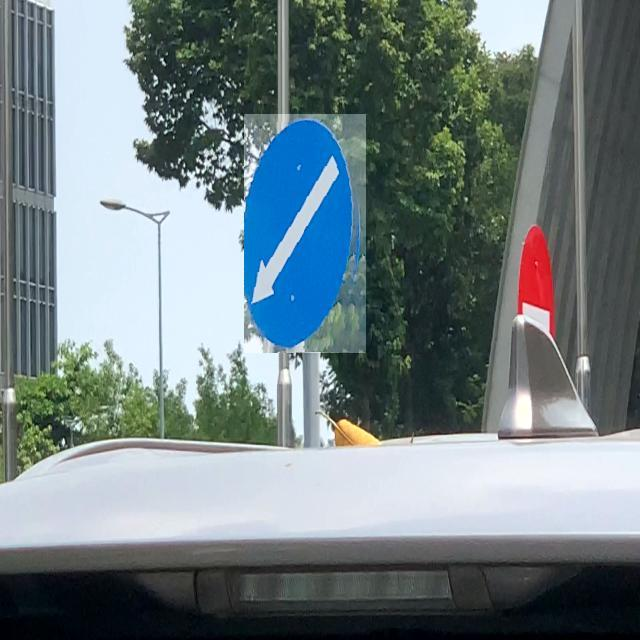R-302b: (244, 114, 366, 353)
